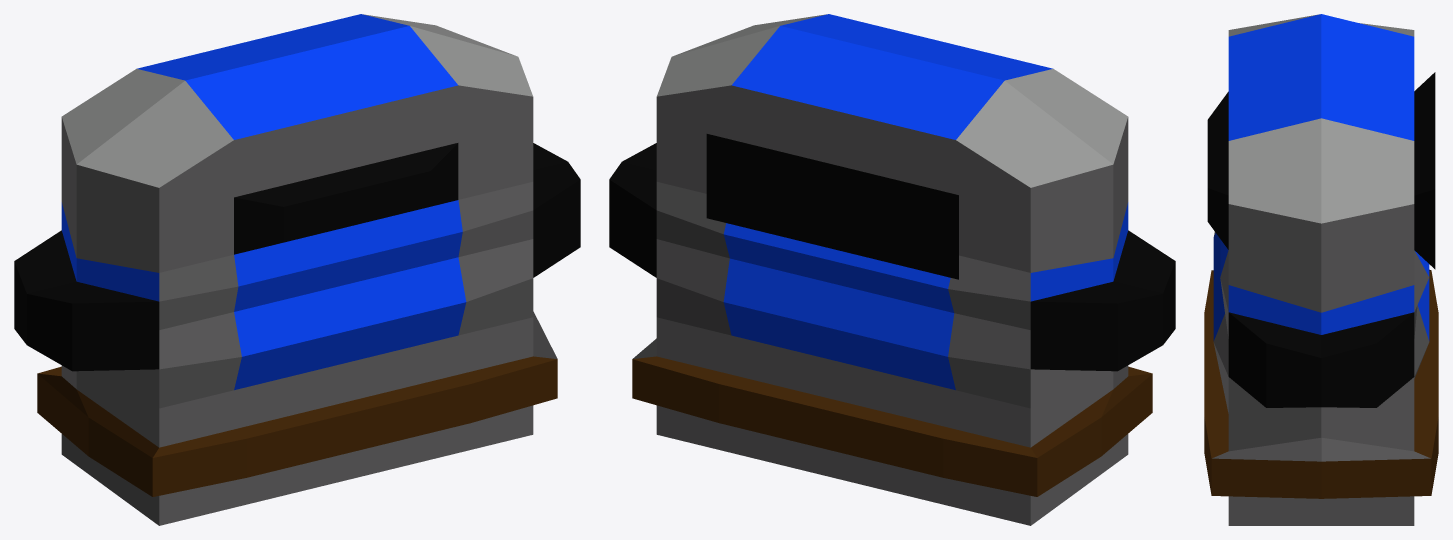
Rendered from Props_LoadingBay_BlueBox.fbx.
3 renders of one model, left to right at view 1: azimuth 30°, elevation 25°; view 2: azimuth 150°, elevation 25°; view 3: azimuth 270°, elevation 25°, orthographic. The views are drawn at different scales.
Parts seen in each view (by area): view 1: Cube.002; view 2: Cube.002; view 3: Cube.002.
Part boxes in pixels (x1,y1,x2,y2): Cube.002: (14, 14, 580, 525); Cube.002: (609, 14, 1175, 525); Cube.002: (1204, 14, 1438, 525).
Size of the model in its own units: 145 by 105 by 56.89.
